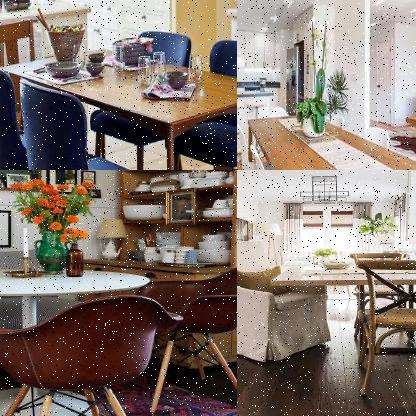table: (0, 41, 236, 169), (0, 264, 158, 415), (264, 249, 415, 396), (244, 106, 415, 169)
